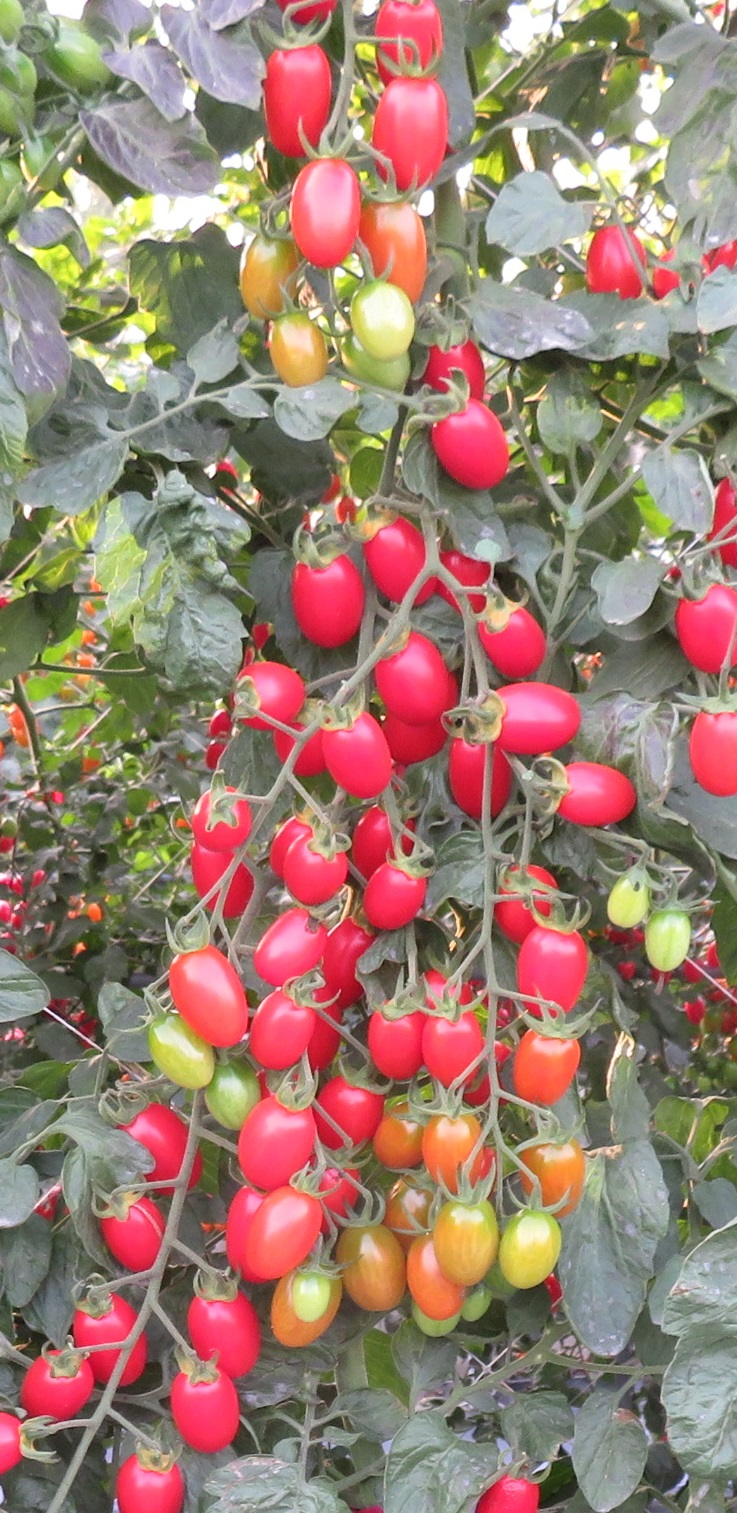green: (491, 1216, 574, 1290), (46, 31, 122, 95), (147, 1019, 213, 1086), (352, 287, 415, 356), (644, 908, 693, 978), (283, 1266, 333, 1320), (603, 876, 647, 928), (210, 1076, 248, 1120), (1, 820, 21, 840)
orange: (242, 1189, 326, 1286), (347, 1216, 401, 1320), (368, 195, 429, 287), (514, 1030, 583, 1104), (427, 1113, 490, 1189), (438, 1201, 494, 1286), (266, 309, 325, 388), (518, 1145, 586, 1209), (241, 239, 293, 314), (373, 1111, 421, 1167), (410, 1238, 443, 1315), (8, 703, 24, 729), (88, 903, 105, 923)
red: (232, 1083, 325, 1193), (167, 1360, 256, 1464), (368, 75, 447, 192), (173, 937, 252, 1054), (422, 395, 513, 493), (288, 154, 364, 266), (285, 547, 368, 649), (262, 46, 336, 160), (316, 707, 404, 801), (115, 1101, 204, 1193), (482, 681, 582, 761), (369, 638, 450, 723), (74, 1293, 146, 1384), (99, 1193, 172, 1281), (663, 580, 737, 665), (377, 1, 452, 83), (223, 660, 309, 729), (358, 516, 431, 597), (683, 695, 737, 804), (237, 990, 309, 1067), (518, 929, 582, 1015), (555, 759, 638, 824), (361, 998, 424, 1083), (422, 1009, 486, 1090), (188, 1285, 257, 1360), (185, 847, 255, 920), (452, 740, 513, 823), (581, 223, 643, 303), (253, 905, 321, 977), (354, 800, 413, 875), (114, 1450, 181, 1513), (23, 1349, 88, 1413), (364, 865, 427, 931), (487, 606, 549, 673), (497, 864, 555, 934), (194, 786, 254, 853), (427, 333, 491, 395), (289, 830, 338, 904), (708, 472, 737, 572), (471, 1471, 540, 1513), (1, 1409, 29, 1473), (1, 904, 13, 922)
